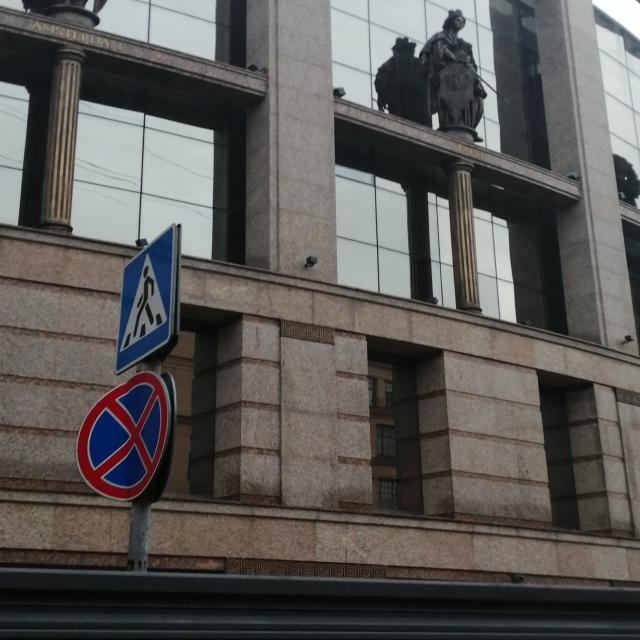road sign: (73, 368, 171, 500), (114, 222, 173, 375), (126, 499, 152, 574)
